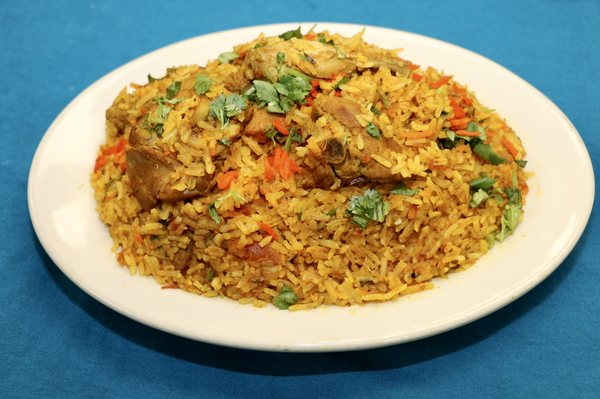curry: (346, 189, 389, 227)
